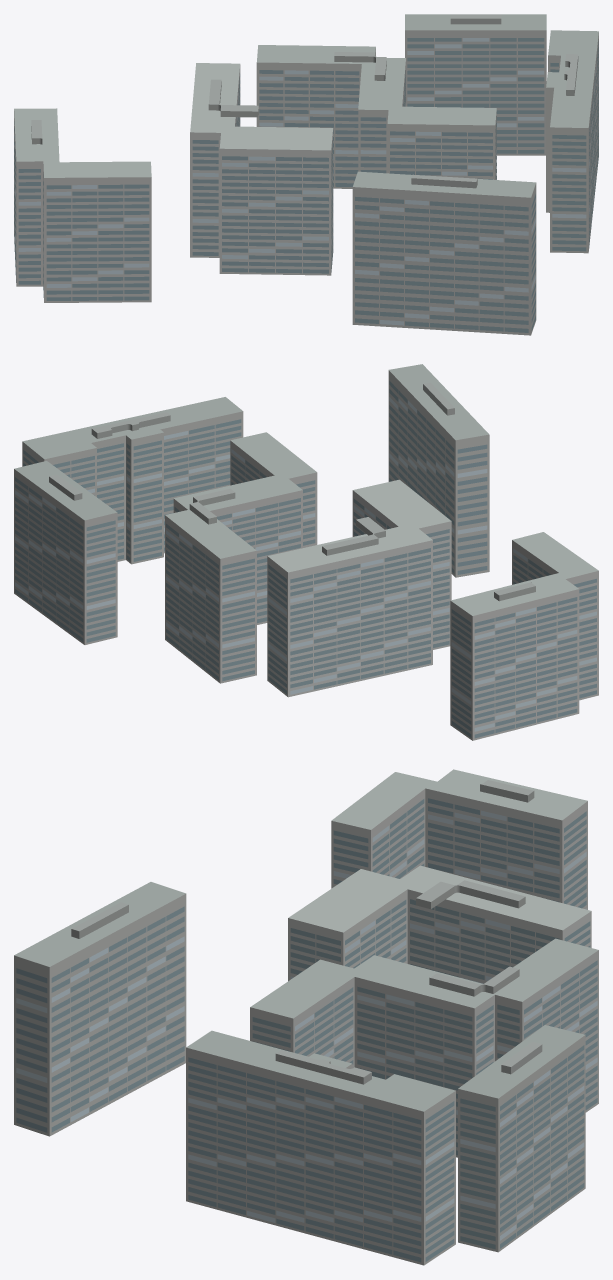
The model's file is apt-a13677206.glb.
3 renders of one model, top to bottom at view 1: azimuth 30°, elevation 25°; view 2: azimuth 150°, elevation 25°; view 3: azimuth 270°, elevation 25°, orthographic. The views are drawn at different scales.
Visible parts, largest first — view 1: apt-a13677206; view 2: apt-a13677206; view 3: apt-a13677206.
Boxes of the visible parts, x1,y1,x2,y2 form: apt-a13677206: (14,14,598,335); apt-a13677206: (14,364,598,740); apt-a13677206: (14,769,598,1265).
Bounding box in the file's own units: 228 × 55 × 165.
